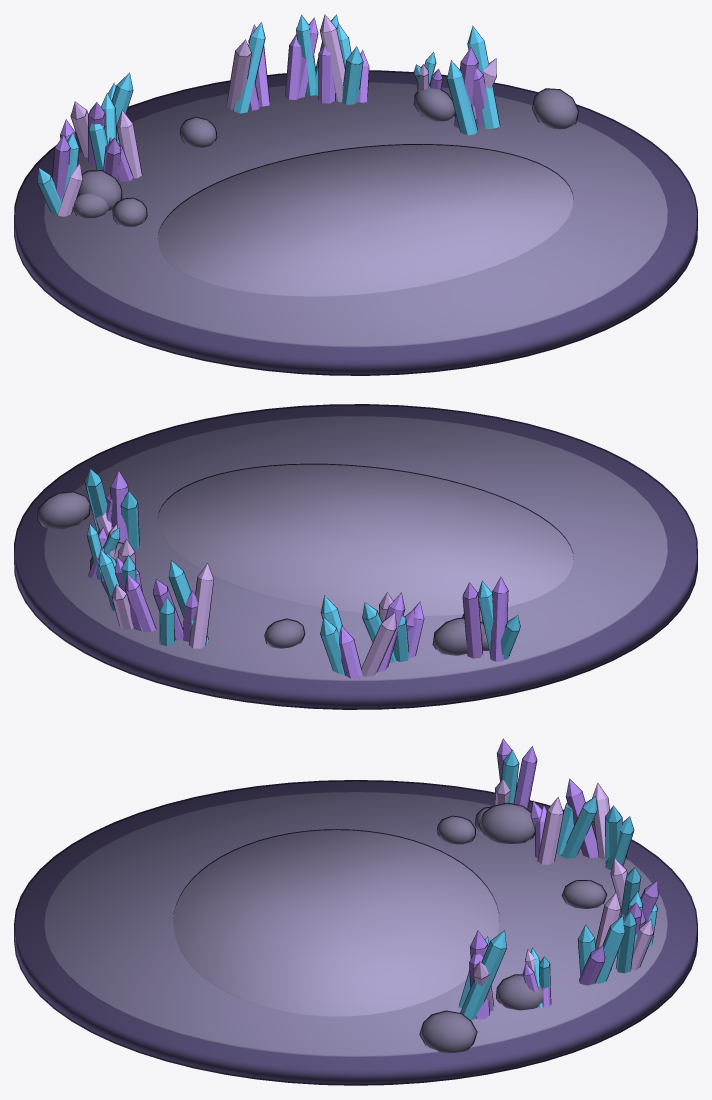
Rendered from crystal.glb.
3 views of the same model, one above another, from view 1: azimuth 30°, elevation 25°; view 2: azimuth 150°, elevation 25°; view 3: azimuth 270°, elevation 25° (orthographic).
Visible parts, largest first — view 1: ground, floor, skirt, rock, crystal.013, crystal.010, rock.002, crystal.017, rock.005, crystal.008, crystal.007, rock.001 (+17 smaller); view 2: ground, floor, skirt, rock, crystal.007, crystal.021, crystal.024, rock.005, crystal.027, rock.001, crystal.004, crystal.011 (+15 smaller); view 3: ground, floor, skirt, rock, rock.005, crystal.010, rock.002, crystal.037, rock.001, crystal.038, rock.003, crystal.029 (+11 smaller).
Part boxes in pixels (x1,y1,x2,y2): ground: (44,82,667,347); floor: (157,144,573,296); skirt: (14,70,697,375); rock: (532,88,578,129); crystal.013: (446,60,477,135); crystal.010: (467,25,500,129); rock.002: (414,88,455,121); crystal.017: (319,14,345,102); rock.005: (78,170,122,210); crystal.008: (233,22,265,113); crystal.007: (226,39,251,109); rock.001: (180,116,217,147); ground: (44,416,667,681); floor: (157,463,573,616); skirt: (14,404,697,709); rock: (37,491,90,529); crystal.007: (189,563,214,648); crystal.021: (462,582,483,658); crystal.024: (490,577,508,661); rock.005: (432,617,485,655); crystal.027: (361,612,397,676); rock.001: (264,618,305,648); crystal.004: (124,575,156,631); crystal.011: (110,470,128,542); ground: (44,792,667,1057); floor: (173,829,499,1016); skirt: (14,780,697,1085); rock: (419,1010,477,1052); rock.005: (479,802,534,843); crystal.010: (460,930,506,1020); rock.002: (496,974,543,1010); crystal.037: (537,797,563,864); rock.001: (561,880,607,908); crystal.038: (561,796,597,858); rock.003: (437,815,475,844); crystal.029: (565,778,598,858).
Size of the model in its own units: 21.07 by 3.58 by 21.07.
